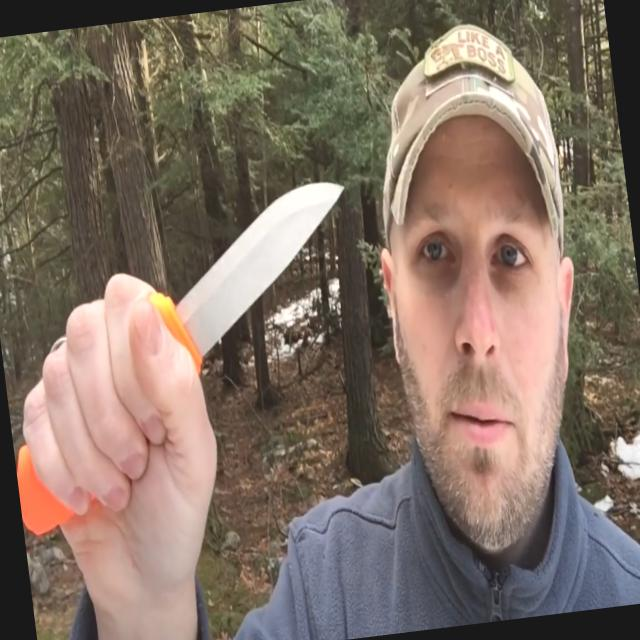knife: (72, 170, 382, 483)
